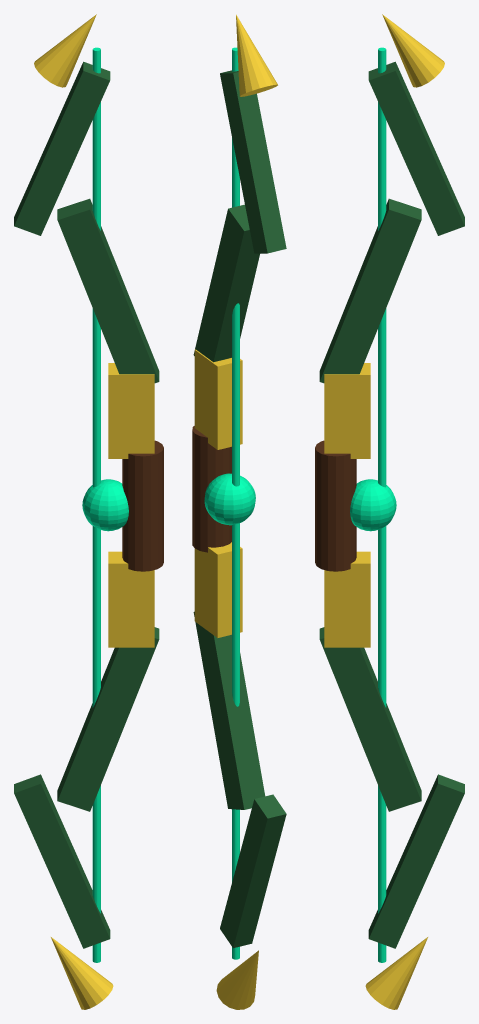
File: bow_weapon.obj
3 renders of one model, left to right at view 1: azimuth 90°, elevation 25°; view 2: azimuth 210°, elevation 25°; view 3: azimuth 270°, elevation 25°, orthographic.
Visible parts, largest first — view 1: Upper_Limb_1, Lower_Limb_1, Upper_Limb_2, Lower_Limb_2, Bowstring, Grip_Wrap, Riser_Lower, Riser_Upper, Riser_Gem, Upper_Tip, Lower_Tip; view 2: Lower_Limb_1, Upper_Limb_2, Upper_Limb_1, Lower_Limb_2, Bowstring, Riser_Upper, Riser_Lower, Grip_Wrap, Riser_Gem, Upper_Tip, Lower_Tip; view 3: Upper_Limb_1, Lower_Limb_1, Upper_Limb_2, Lower_Limb_2, Bowstring, Grip_Wrap, Riser_Lower, Riser_Upper, Riser_Gem, Upper_Tip, Lower_Tip.
Part boxes in pixels (<box>): Upper_Limb_1: <box>57,198,159,383</box>; Lower_Limb_1: <box>57,627,159,811</box>; Upper_Limb_2: <box>14,61,110,235</box>; Lower_Limb_2: <box>14,774,110,948</box>; Bowstring: <box>92,47,100,962</box>; Grip_Wrap: <box>122,440,163,571</box>; Riser_Lower: <box>108,551,154,647</box>; Riser_Upper: <box>108,363,154,458</box>; Riser_Gem: <box>82,479,128,531</box>; Upper_Tip: <box>34,14,96,87</box>; Lower_Tip: <box>51,937,113,1009</box>; Lower_Limb_1: <box>193,611,265,809</box>; Upper_Limb_2: <box>220,70,286,253</box>; Upper_Limb_1: <box>193,204,259,362</box>; Lower_Limb_2: <box>220,794,286,948</box>; Bowstring: <box>232,47,239,959</box>; Riser_Upper: <box>194,349,242,449</box>; Riser_Lower: <box>194,542,242,637</box>; Grip_Wrap: <box>192,426,231,552</box>; Riser_Gem: <box>204,473,255,525</box>; Upper_Tip: <box>236,14,277,96</box>; Lower_Tip: <box>216,950,258,1009</box>; Upper_Limb_1: <box>319,198,421,383</box>; Lower_Limb_1: <box>319,627,421,811</box>; Upper_Limb_2: <box>368,61,464,235</box>; Lower_Limb_2: <box>368,774,464,948</box>; Bowstring: <box>378,47,386,962</box>; Grip_Wrap: <box>315,440,356,571</box>; Riser_Lower: <box>324,551,370,647</box>; Riser_Upper: <box>324,363,370,458</box>; Riser_Gem: <box>350,479,396,531</box>; Upper_Tip: <box>382,14,444,87</box>; Lower_Tip: <box>365,937,427,1009</box>.
Bounding box in the file's own units: 0.09 × 1.89 × 0.2591.
